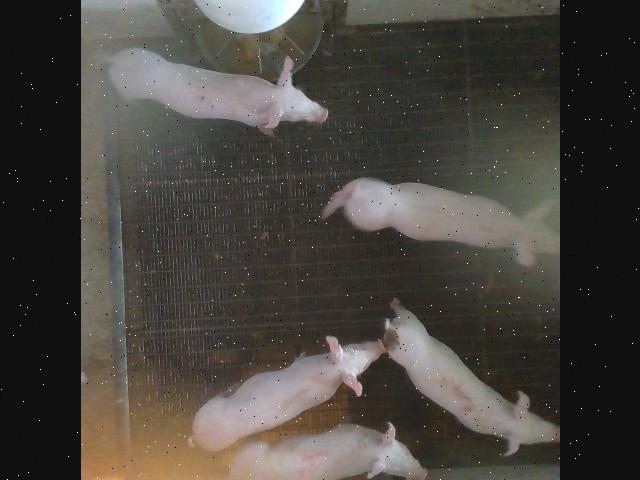pig-4: (228, 422, 426, 480)
pig-5: (382, 299, 560, 456)
